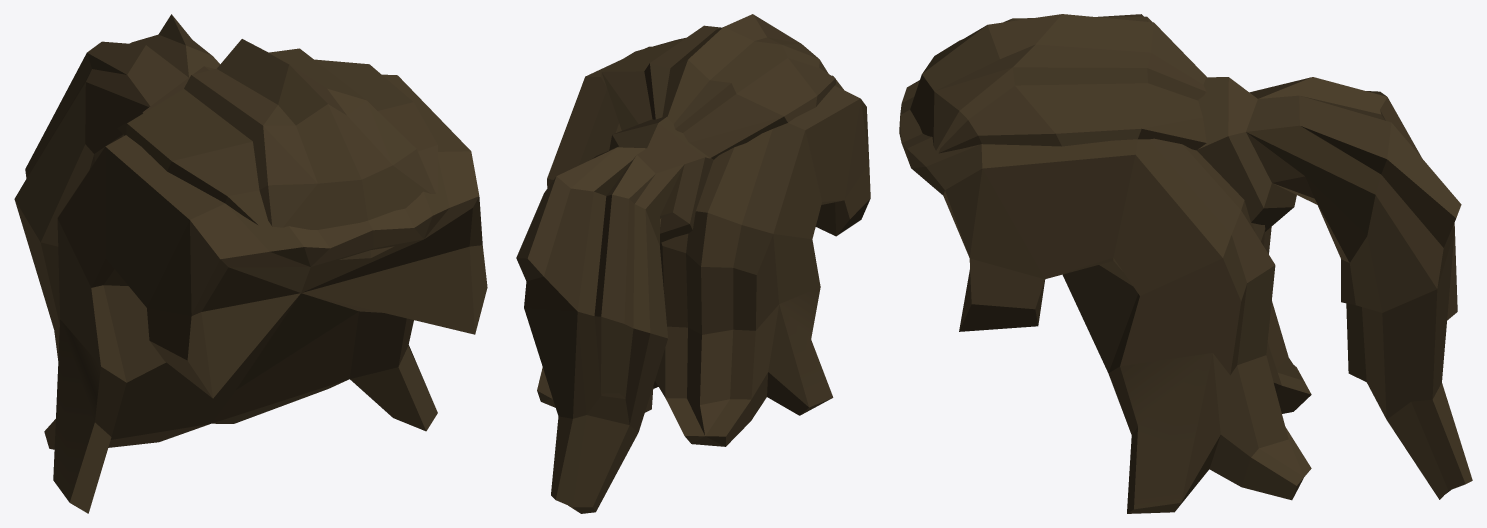
File: Chr_Hair_38_Static.fbx
The picture shows the model from 3 angles, left to right: view 1: azimuth 30°, elevation 25°; view 2: azimuth 150°, elevation 25°; view 3: azimuth 270°, elevation 25°; orthographic projection. The views are drawn at different scales.
Visible parts, largest first — view 1: Chr_Hair_38_Static; view 2: Chr_Hair_38_Static; view 3: Chr_Hair_38_Static.
Part boxes in pixels (bbox=[...]): Chr_Hair_38_Static: bbox=[14, 14, 487, 513]; Chr_Hair_38_Static: bbox=[516, 14, 870, 513]; Chr_Hair_38_Static: bbox=[899, 14, 1472, 513].
Size of the model in its own units: 0.2882 by 0.3755 by 0.4013.
